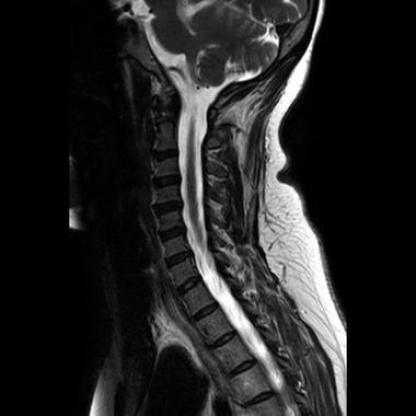Disc Bulgerotation: (164, 251, 194, 268), (152, 174, 182, 189), (158, 226, 187, 241), (154, 200, 183, 215)
